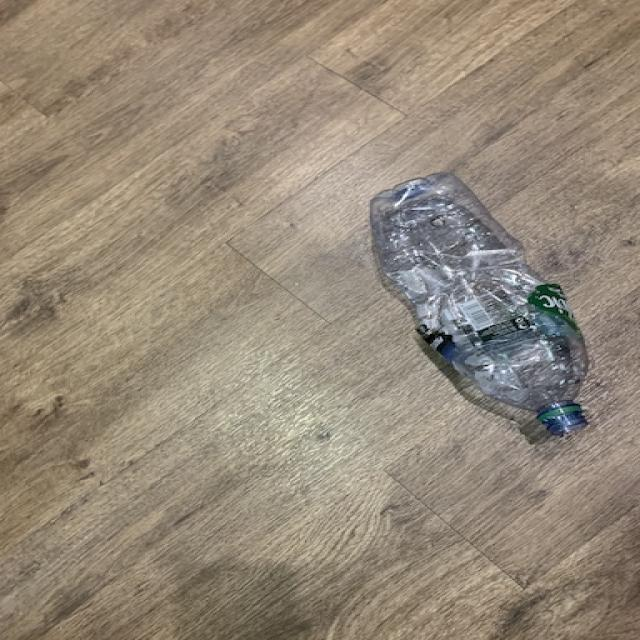litter: (362, 172, 593, 442)
